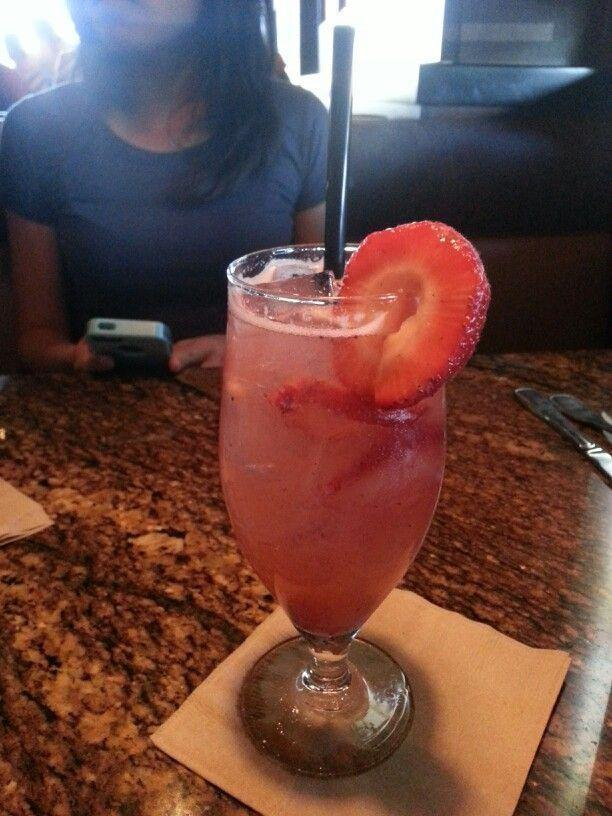glass-wine: (217, 242, 451, 778)
